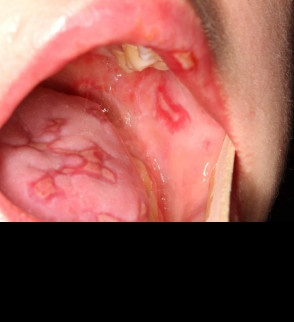SJS-TEN: (0, 0, 260, 221)
